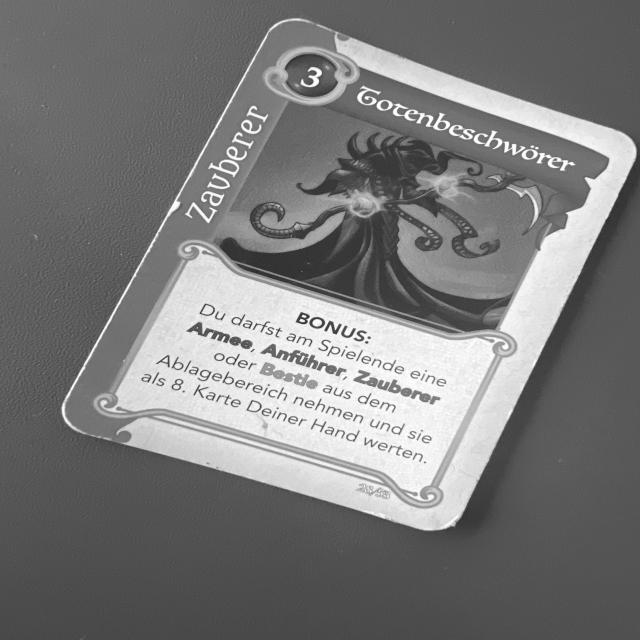Necromancer: (49, 16, 640, 540)
